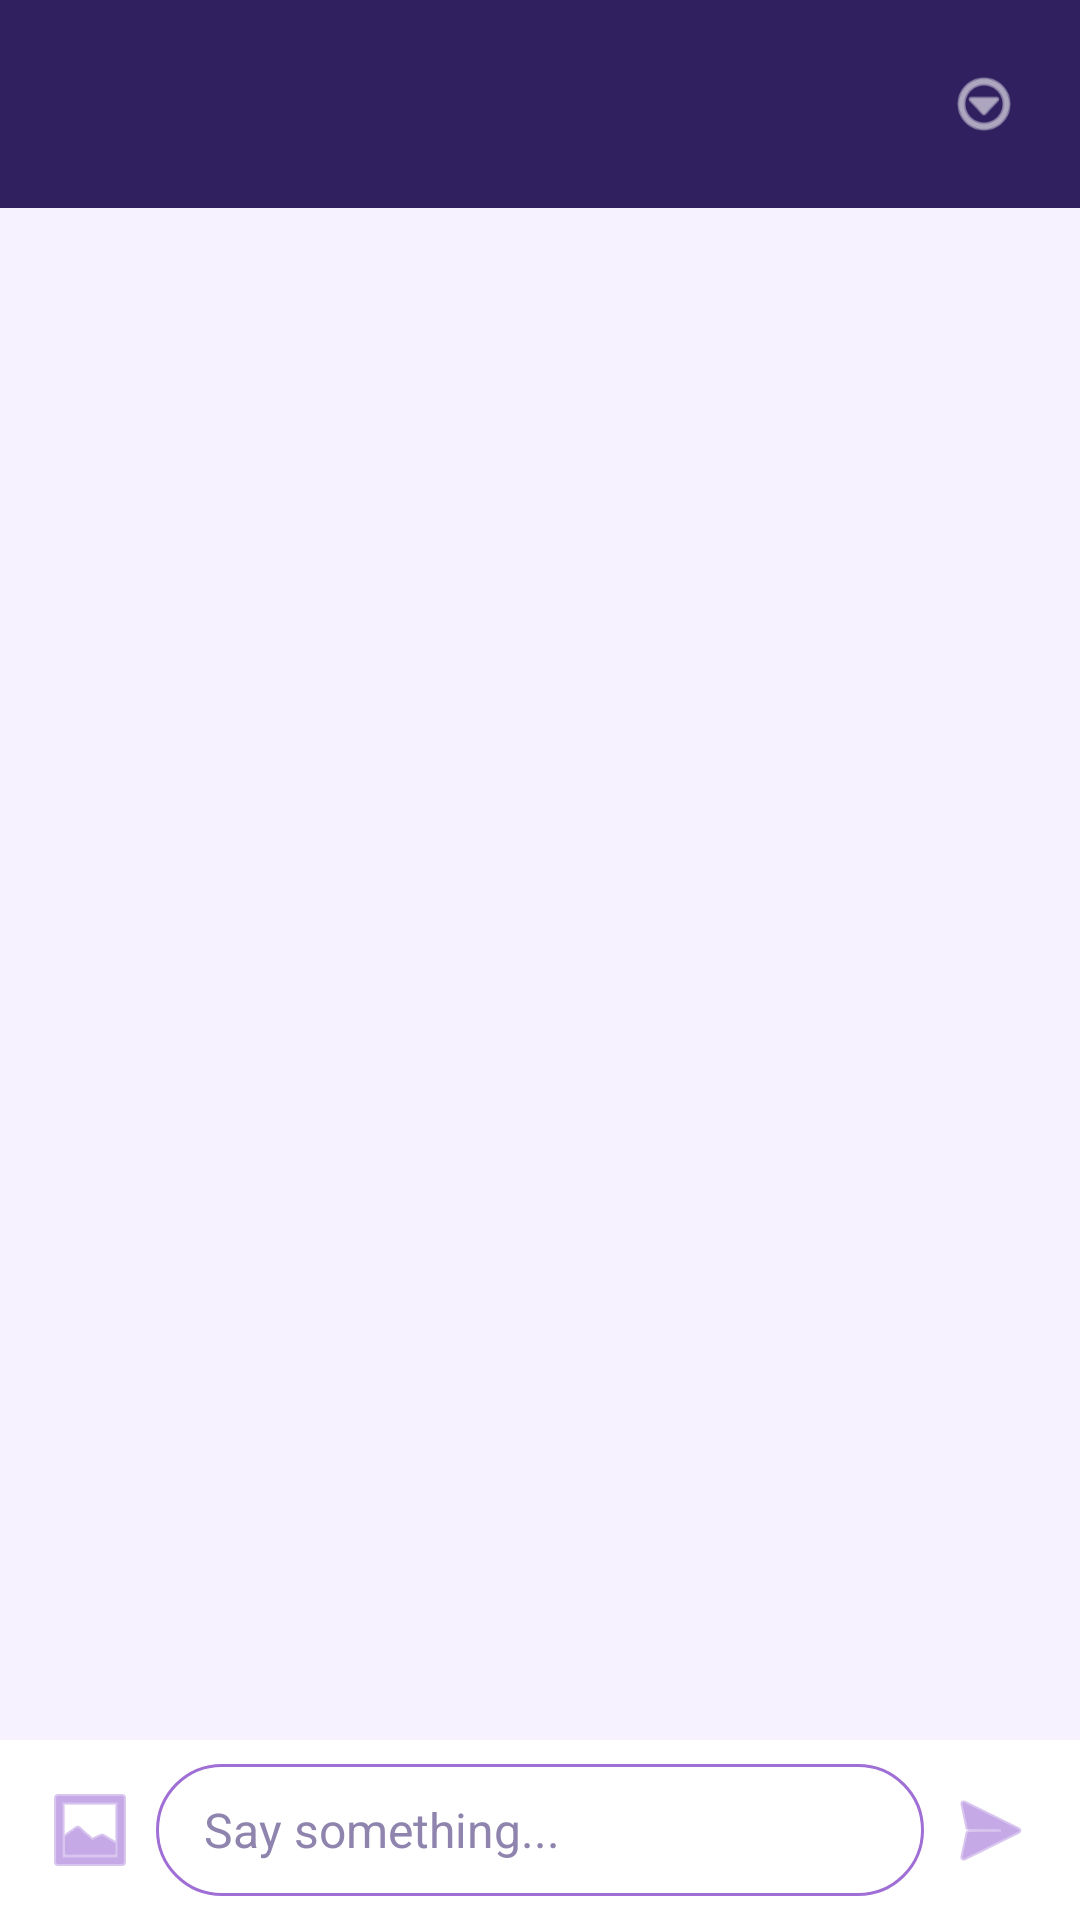

Locate icon controls on the screen. Image size 1080x1920, boxes as [left=x1, top=y1, right=x2, bottom=y2].
More options: [left=957, top=77, right=1011, bottom=131]
Send: [left=960, top=1800, right=1021, bottom=1861]
Send image: [left=54, top=1794, right=126, bottom=1866]
